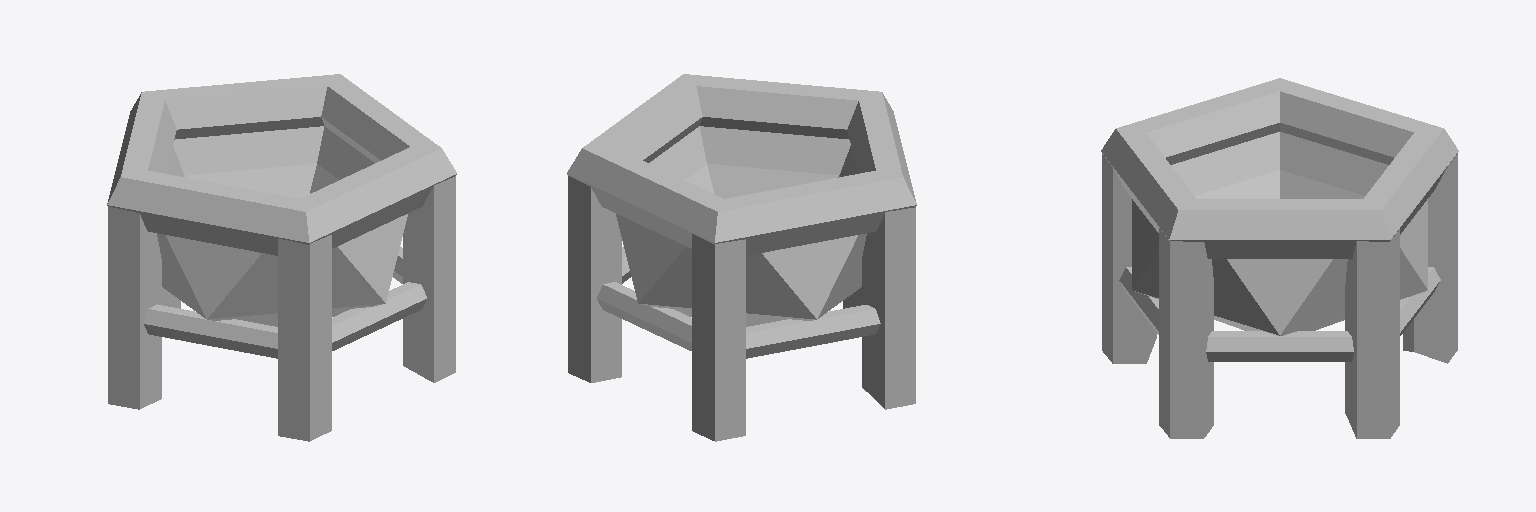
Rendered from cauldron.obj.
3 views of the same model, side by side, from view 1: azimuth 30°, elevation 25°; view 2: azimuth 150°, elevation 25°; view 3: azimuth 270°, elevation 25° (orthographic).
Parts seen in each view (by area): view 1: Torus, Icosphere_Icosphere.001, Cylinder.002, Cylinder, Cylinder.001, Torus.001; view 2: Torus, Icosphere_Icosphere.001, Cylinder.004, Cylinder, Cylinder.003, Torus.001; view 3: Torus, Icosphere_Icosphere.001, Cylinder.001, Cylinder.003, Cylinder.002, Torus.001, Cylinder.004.
Boxes of the visible parts, box(x1,y1,x2,y2) form: Torus: box(107, 74, 456, 255); Icosphere_Icosphere.001: box(157, 126, 407, 326); Cylinder.002: box(278, 235, 331, 441); Cylinder: box(108, 206, 161, 409); Cylinder.001: box(403, 176, 455, 382); Torus.001: box(144, 246, 426, 358); Torus: box(567, 74, 916, 255); Icosphere_Icosphere.001: box(616, 126, 866, 326); Cylinder.004: box(692, 234, 745, 441); Cylinder: box(862, 207, 915, 409); Cylinder.003: box(568, 176, 621, 382); Torus.001: box(597, 246, 880, 358); Torus: box(1101, 78, 1458, 258); Icosphere_Icosphere.001: box(1132, 132, 1427, 335); Cylinder.001: box(1159, 228, 1213, 438); Cylinder.003: box(1345, 229, 1399, 438); Cylinder.002: box(1102, 154, 1156, 363); Torus.001: box(1119, 267, 1440, 361); Cylinder.004: box(1403, 154, 1457, 363).
Size of the model in its own units: 2.76 by 1.98 by 2.87.